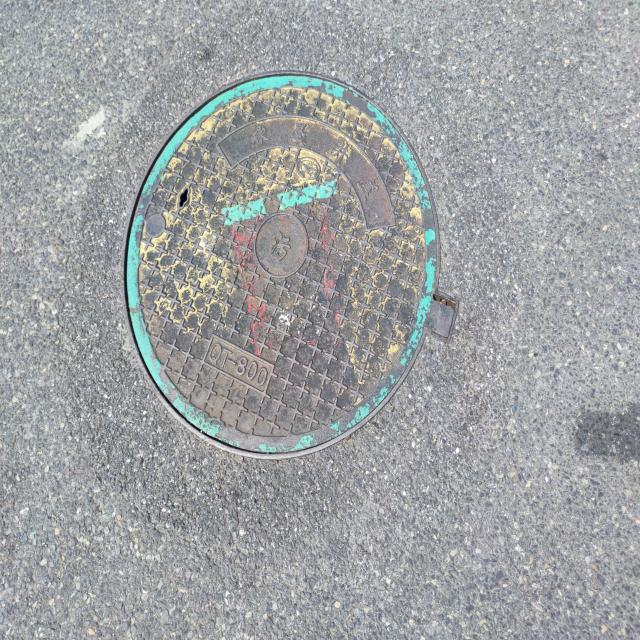Good: (117, 68, 460, 470)
